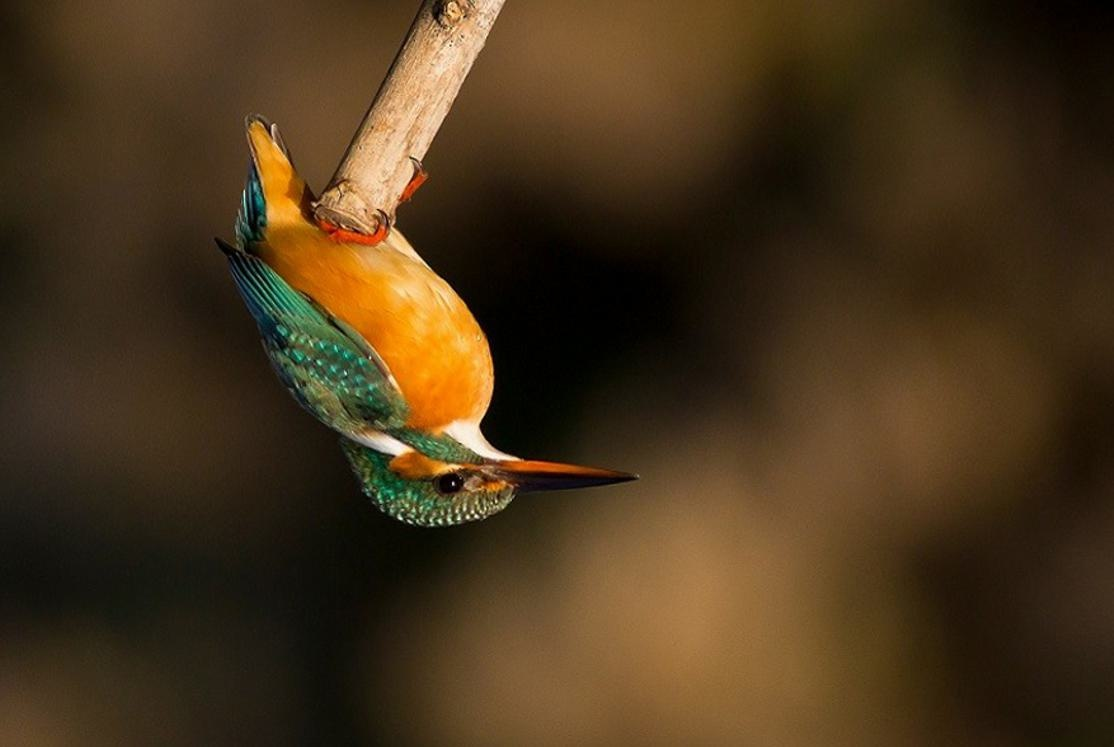kingfisher: (187, 122, 647, 552)
